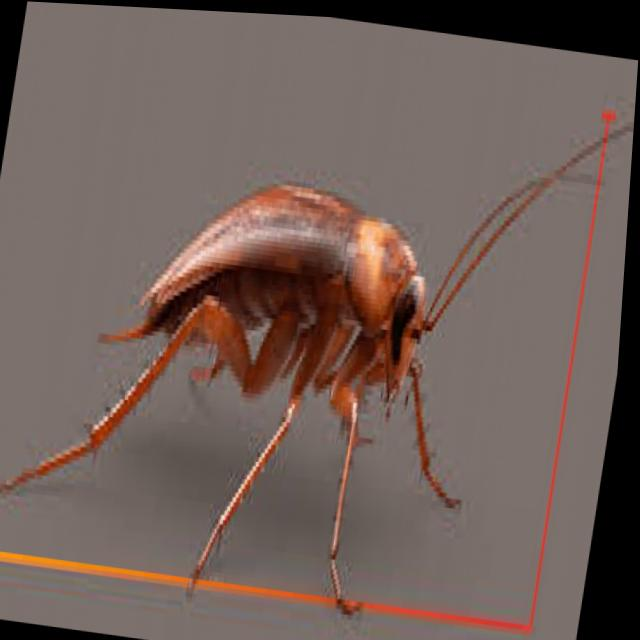Cockroach: (1, 14, 607, 592)
